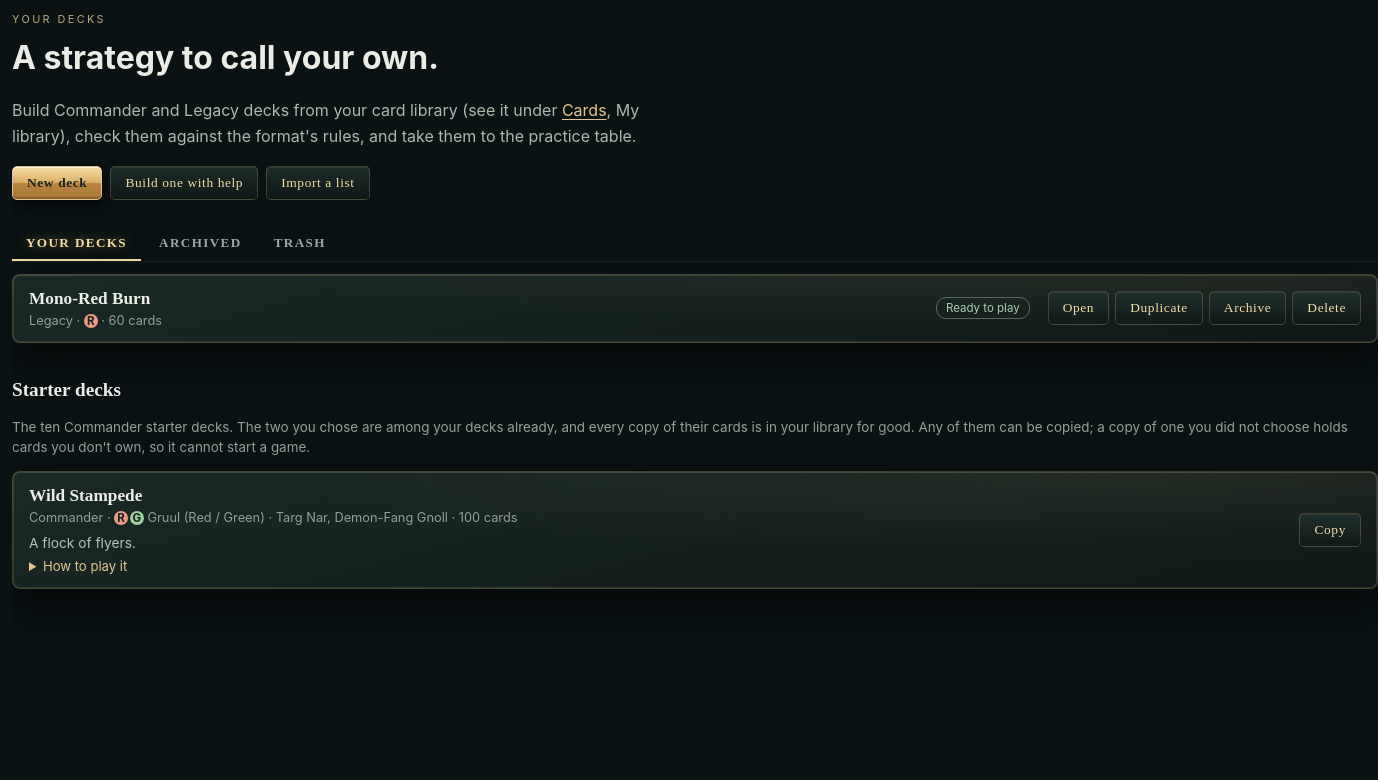
Test: the decks page › lists the player's decks with their state, and archives one
Expected: the list item "Mono-Red Burn" shows "Legacy", [29, 313, 73, 328]
Expected: the list item "Mono-Red Burn" shows "60 cards", [12, 274, 1377, 343]
What coordinates should you click on to do the following:
click the button "Archive"
I would click on:
 (1248, 308)
Its box is [1209, 292, 1286, 326].
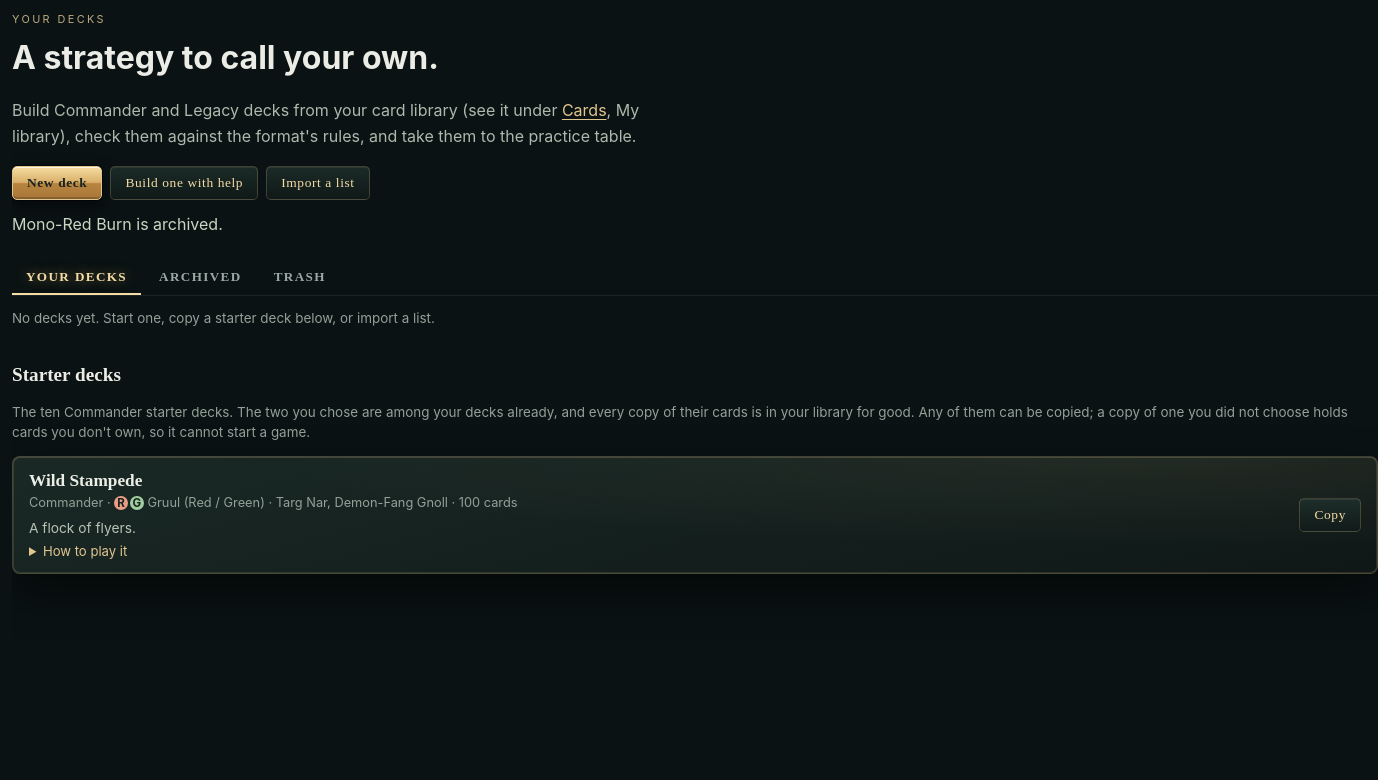
Expected: the text "Mono-Red Burn is archived." is shown, [12, 214, 223, 234]
Expected: the text "No decks yet" is shown, [12, 310, 435, 326]
